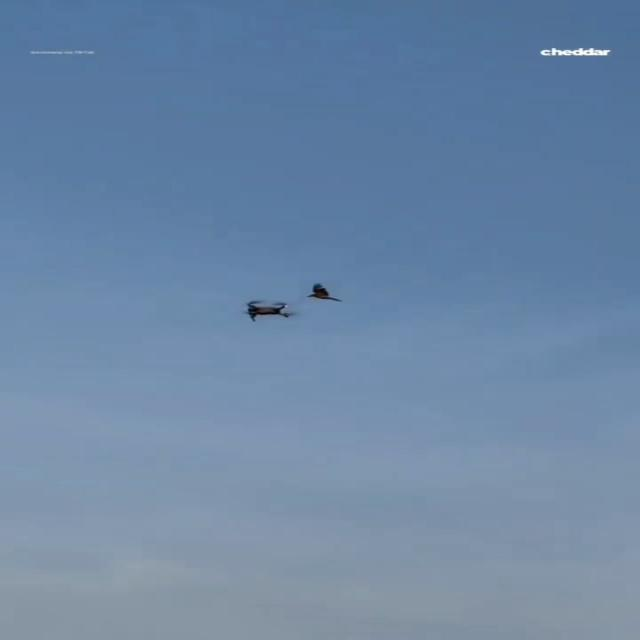bird: (306, 282, 342, 302)
drone: (244, 300, 292, 322)
